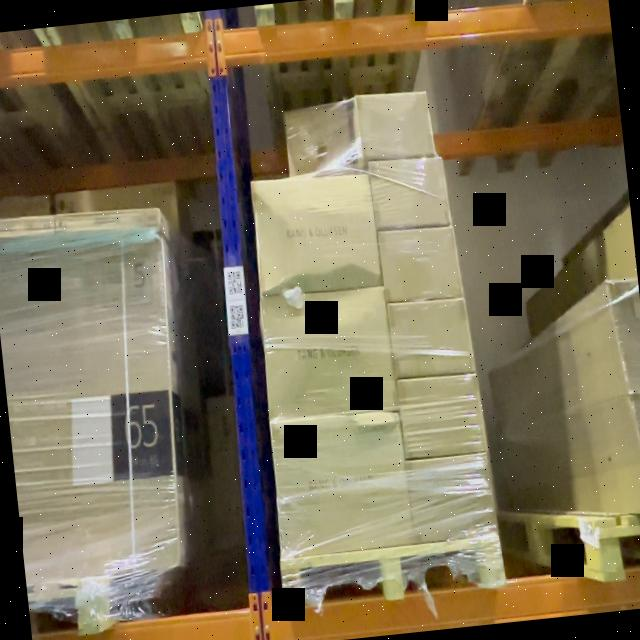box: (0, 230, 190, 580), (269, 411, 412, 558), (258, 288, 394, 420), (250, 172, 378, 294), (399, 374, 486, 458), (410, 458, 495, 542), (391, 300, 474, 378), (382, 226, 461, 302), (372, 158, 450, 230), (358, 89, 433, 160), (285, 106, 356, 175)
